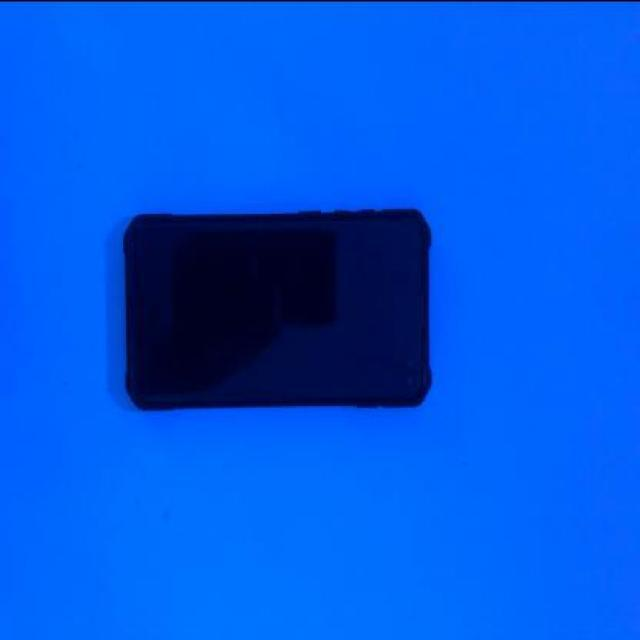phone: (125, 212, 436, 415)
